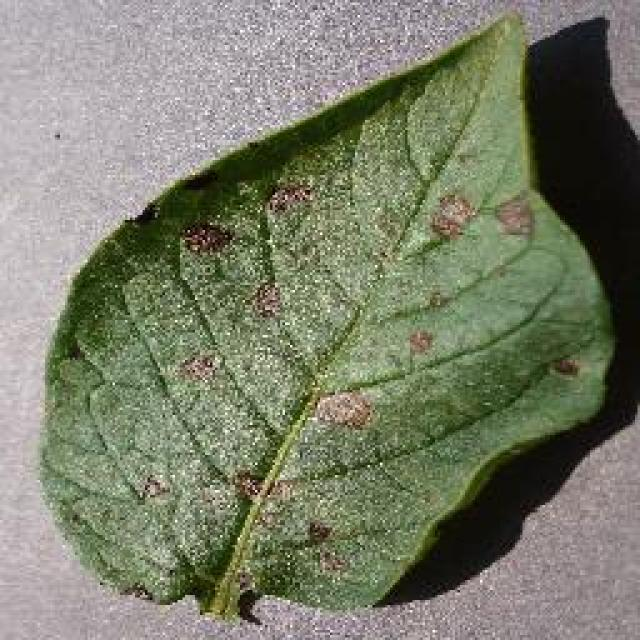early_blight: (32, 8, 620, 622)
